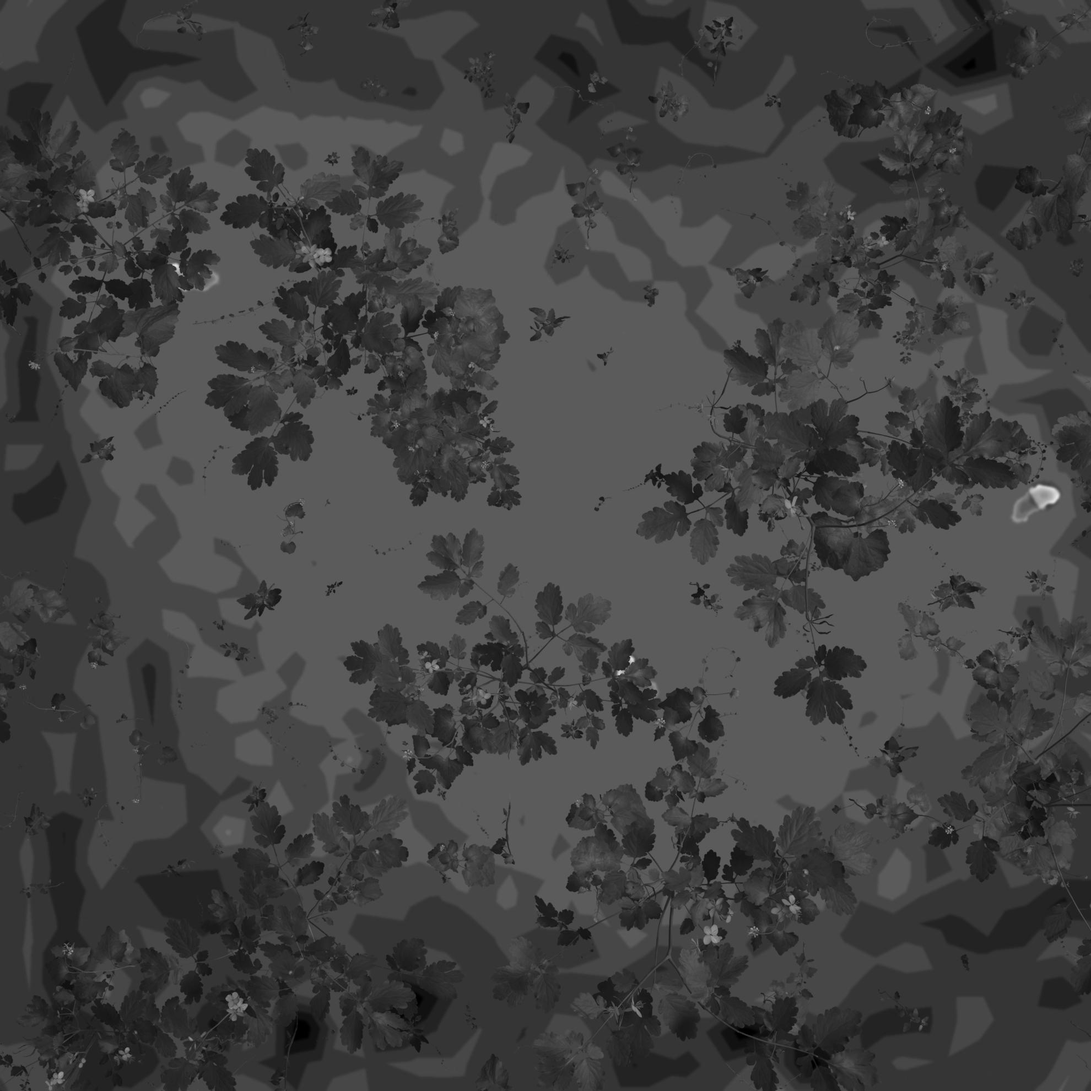landmine: (1008, 482, 1066, 530)
